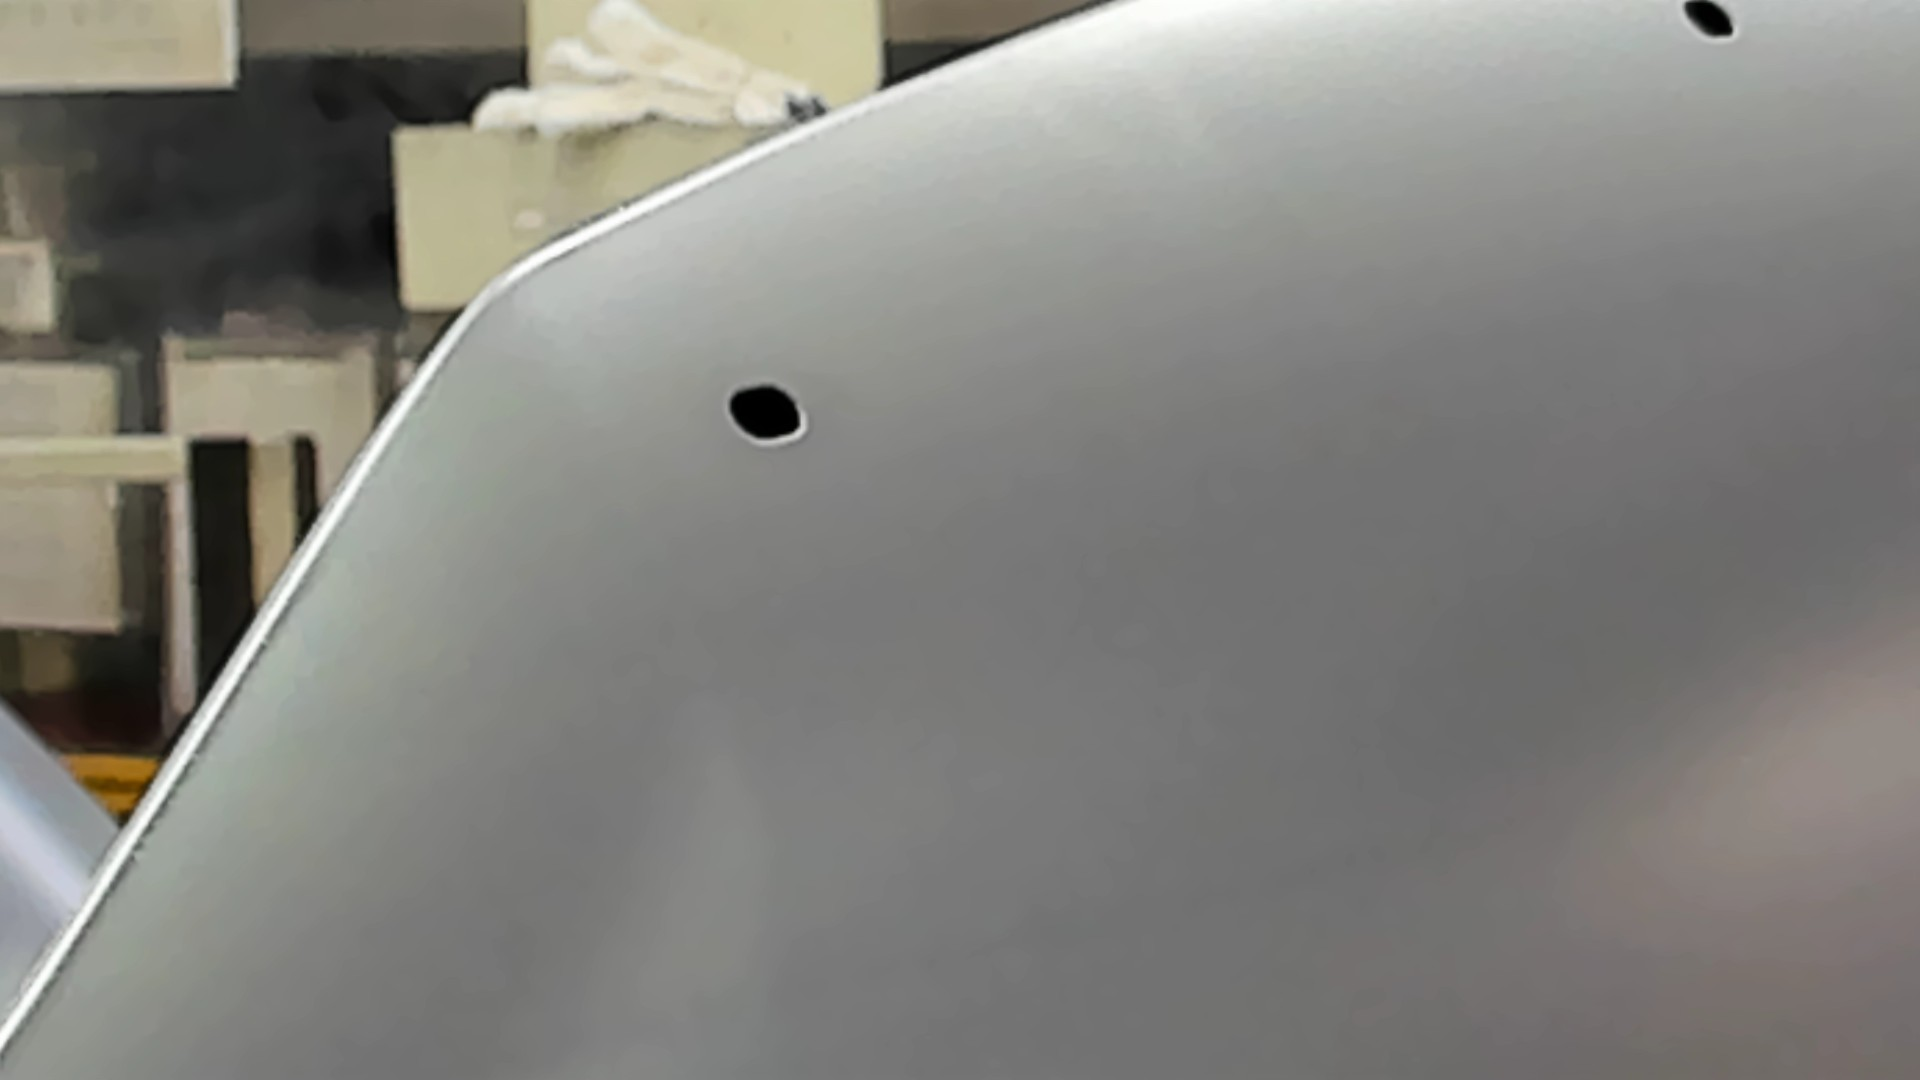amorfo: (724, 378, 811, 446), (1679, 1, 1741, 51)
